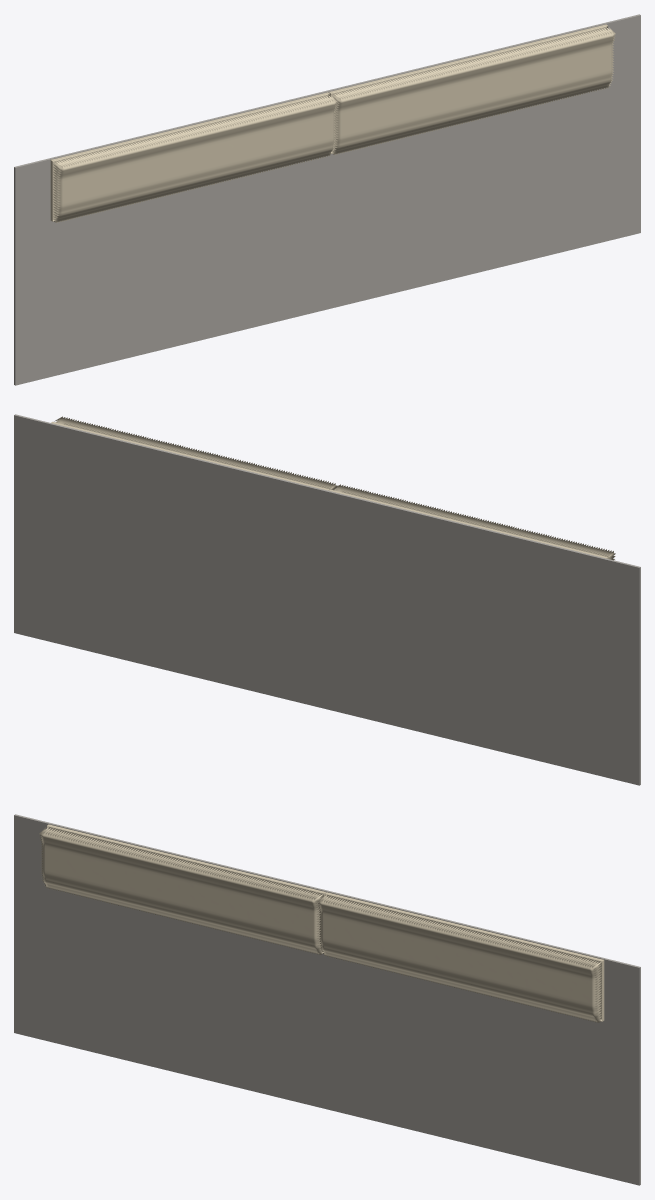
Rendered from terilgan.glb.
The picture shows the model from 3 angles, top to bottom: view 1: azimuth 30°, elevation 25°; view 2: azimuth 150°, elevation 25°; view 3: azimuth 330°, elevation 25°; orthographic projection.
Parts seen in each view (by area): view 1: Devor, t0, t1; view 2: Devor, t0, t1; view 3: Devor, t1, t0.
Part boxes in pixels (bbox=[...]): Devor: bbox=[14, 14, 640, 385]; t0: bbox=[50, 92, 337, 222]; t1: bbox=[328, 24, 615, 155]; Devor: bbox=[14, 414, 640, 785]; t0: bbox=[329, 484, 615, 560]; t1: bbox=[51, 416, 337, 490]; Devor: bbox=[14, 814, 640, 1185]; t1: bbox=[317, 892, 604, 1022]; t0: bbox=[39, 824, 326, 955].
Size of the model in its own units: 2.71 by 0.9 by 0.087.
